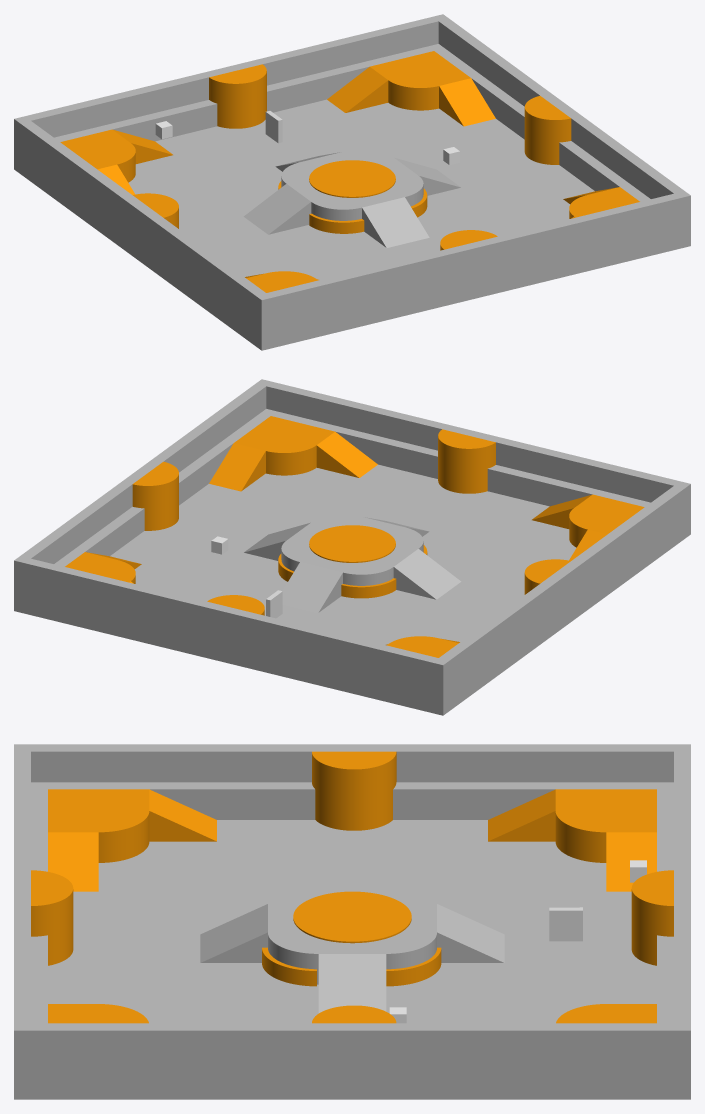
3 views of the same model, one above another, from view 1: azimuth 30°, elevation 25°; view 2: azimuth 150°, elevation 25°; view 3: azimuth 270°, elevation 25° (orthographic). The views are drawn at different scales.
Visible parts, largest first — view 1: Floor, SM_Cube19, SM_Cube18, SM_Cube5, SM_Cube20, SM_Cube17, SM_Cube3, SM_Cube4, SM_Cube2, SM_Cylinder, SM_Ramp12, SM_Ramp9 (+17 smaller); view 2: Floor, SM_Cube18, SM_Cube19, SM_Cube4, SM_Cube20, SM_Cube17, SM_Cube3, SM_Cube5, SM_Cube2, SM_Cylinder, SM_Ramp10, SM_Ramp9 (+18 smaller); view 3: Floor, SM_Cube17, SM_Cube20, SM_Cube2, SM_Cube3, SM_Cylinder, SM_Cube18, SM_Cube19, SM_Ramp11, SM_Cylinder6, SM_Cylinder7, SM_Ramp10 (+34 smaller).
Part boxes in pixels (x1,y1,x2,y2): Floor: [14, 99, 690, 350]; SM_Cube19: [266, 193, 680, 319]; SM_Cube18: [25, 17, 438, 137]; SM_Cube5: [283, 223, 669, 339]; SM_Cube20: [14, 116, 272, 322]; SM_Cube17: [433, 14, 690, 220]; SM_Cube3: [14, 141, 283, 344]; SM_Cube4: [54, 46, 433, 141]; SM_Cube2: [428, 44, 690, 245]; SM_Cylinder: [309, 160, 395, 197]; SM_Ramp12: [362, 197, 429, 247]; SM_Ramp9: [243, 184, 311, 234]; Floor: [14, 464, 690, 715]; SM_Cube18: [24, 558, 438, 684]; SM_Cube19: [266, 382, 679, 502]; SM_Cube4: [35, 588, 421, 704]; SM_Cube20: [432, 481, 690, 687]; SM_Cube17: [14, 379, 271, 585]; SM_Cube3: [421, 506, 690, 709]; SM_Cube5: [271, 411, 650, 506]; SM_Cube2: [14, 409, 276, 610]; SM_Cylinder: [309, 525, 395, 562]; SM_Ramp10: [282, 562, 342, 612]; SM_Ramp9: [393, 549, 461, 599]; Floor: [14, 820, 690, 1099]; SM_Cube17: [14, 1023, 690, 1061]; SM_Cube20: [14, 744, 690, 782]; SM_Cube2: [14, 1061, 690, 1091]; SM_Cube3: [31, 782, 673, 819]; SM_Cylinder: [293, 891, 411, 943]; SM_Cube18: [674, 751, 690, 1023]; SM_Cube19: [14, 751, 30, 1023]; SM_Ramp11: [318, 954, 386, 1012]; SM_Cylinder6: [312, 751, 354, 830]; SM_Cylinder7: [354, 751, 396, 830]; SM_Ramp10: [437, 904, 504, 962].
Bounding box in the file's own units: 40 × 5 × 40.
